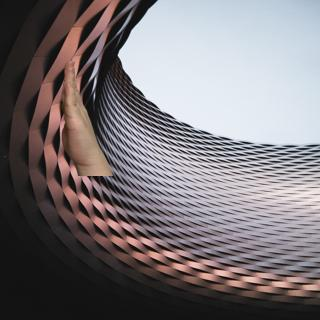RIGHT: (56, 59, 105, 167)
